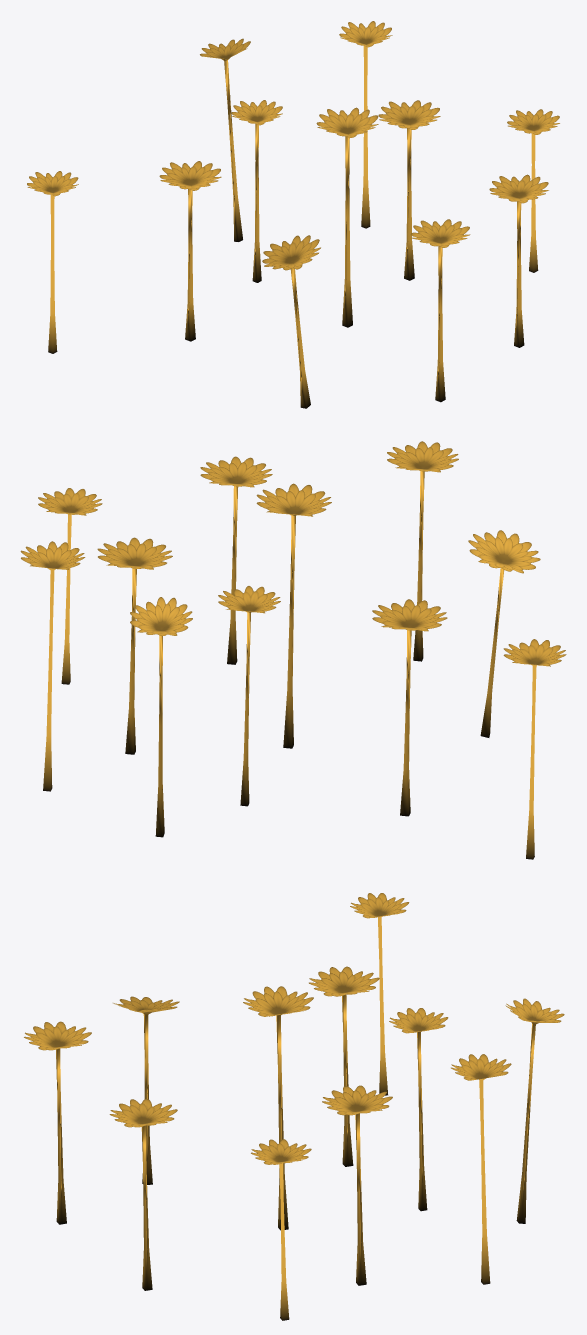
File: flowers.glb
3 renders of one model, top to bottom at view 1: azimuth 30°, elevation 25°; view 2: azimuth 150°, elevation 25°; view 3: azimuth 270°, elevation 25°, orthographic. The views are drawn at different scales.
Visible parts, largest first — view 1: Flowers.006; view 2: Flowers.006; view 3: Flowers.006.
Part boxes in pixels (x1,y1,x2,y2): Flowers.006: (27,21,559,408); Flowers.006: (20,441,566,859); Flowers.006: (24,893,564,1320).
Bounding box in the file's own units: 2.5 × 1.05 × 2.22.
Materials: 1 (1 with a texture image).
